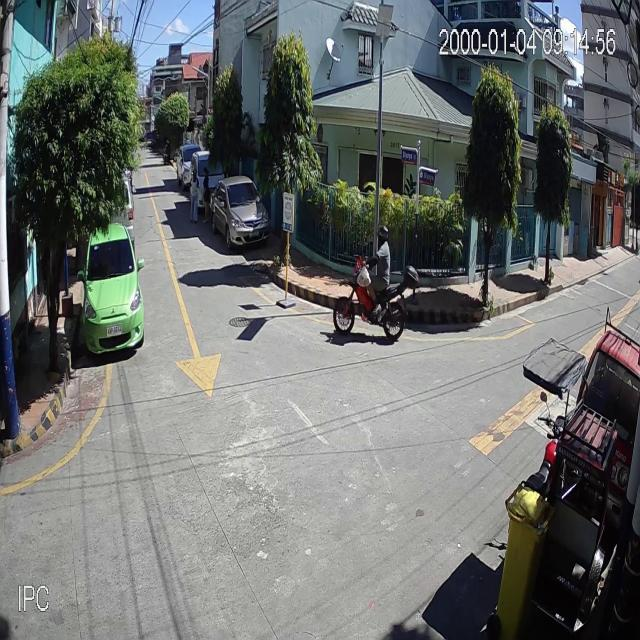standing: (201, 165, 213, 222), (190, 166, 200, 224)
